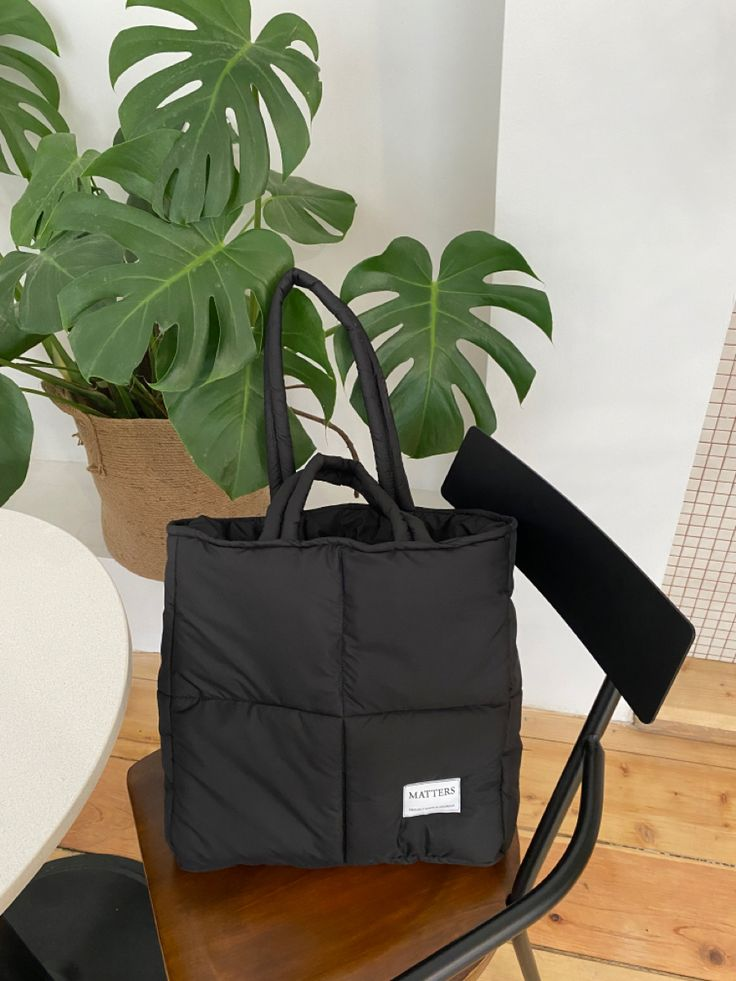nylon: (156, 269, 524, 871)
